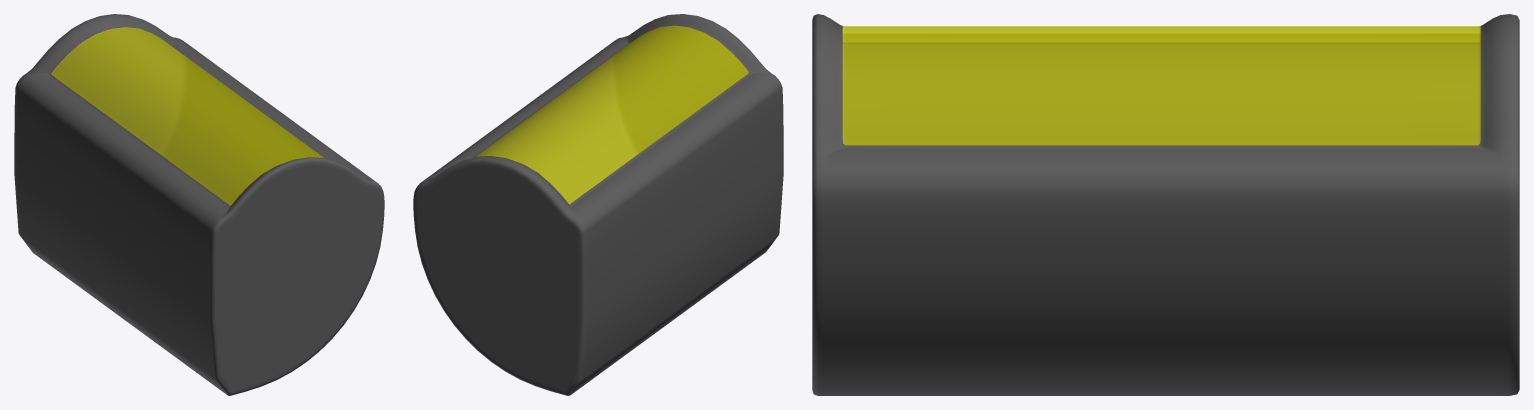
The model's file is Lamp01.fbx.
3 views of the same model, side by side, from view 1: azimuth 30°, elevation 25°; view 2: azimuth 150°, elevation 25°; view 3: azimuth 270°, elevation 25° (orthographic). The views are drawn at different scales.
Visible parts, largest first — view 1: pCube34; view 2: pCube34; view 3: pCube34.
Boxes of the visible parts, left/top/right/bottom form: pCube34: left=14, top=14, right=384, bottom=395; pCube34: left=413, top=14, right=783, bottom=395; pCube34: left=812, top=14, right=1519, bottom=395.
Size of the model in its own units: 5 by 6.05 by 10.
